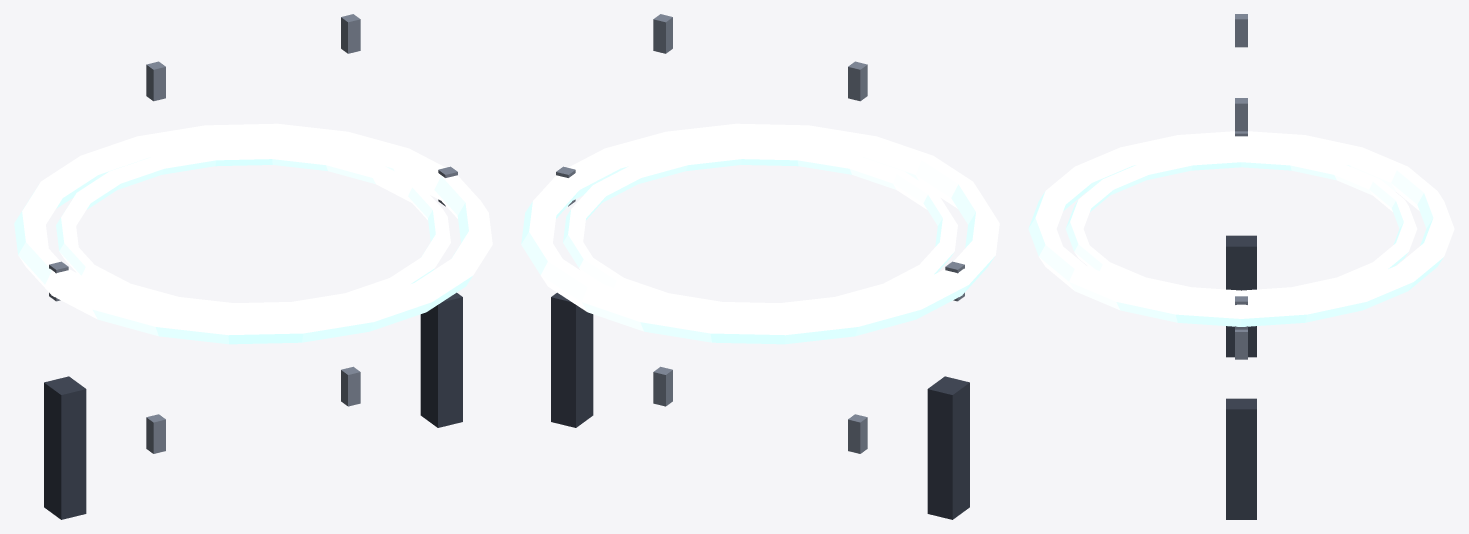
File: obstacle_finish_portal.glb
3 views of the same model, side by side, from view 1: azimuth 30°, elevation 25°; view 2: azimuth 150°, elevation 25°; view 3: azimuth 270°, elevation 25° (orthographic). The views are drawn at different scales.
Parts seen in each view (by area): view 1: obstacle_finish_portal; view 2: obstacle_finish_portal; view 3: obstacle_finish_portal.
Boxes of the visible parts, x1,y1,x2,y2 form: obstacle_finish_portal: (14,14,492,519); obstacle_finish_portal: (521,14,999,519); obstacle_finish_portal: (1028,14,1454,519).
Size of the model in its own units: 3.32 by 3.22 by 3.32.
